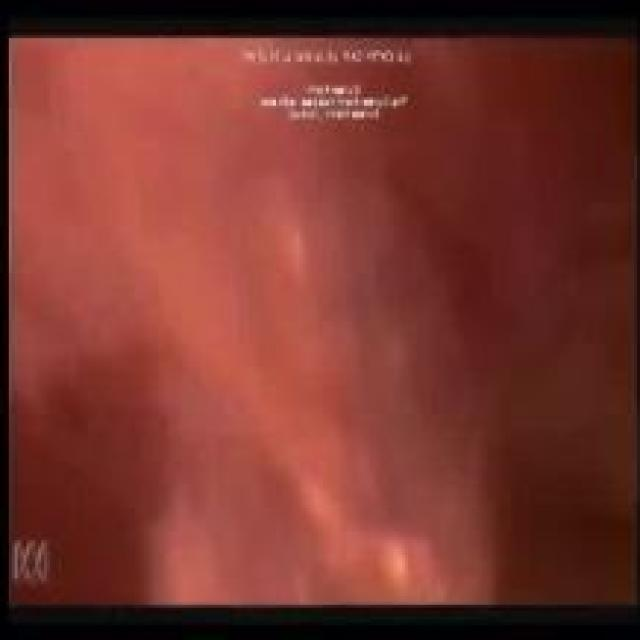smoke: (364, 516, 422, 590)
